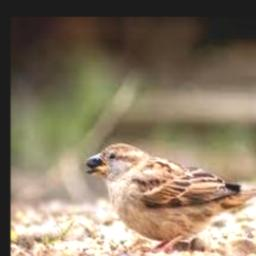Sparrow: (86, 142, 256, 253)
